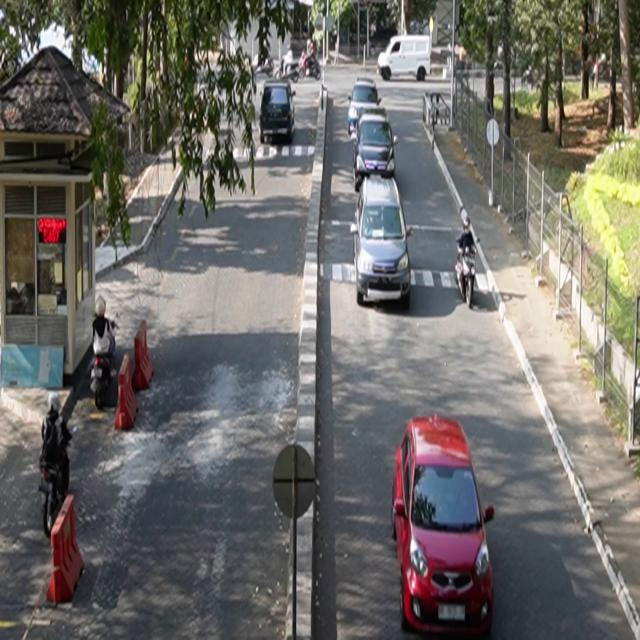car: (392, 415, 496, 638), (351, 175, 413, 307), (353, 113, 399, 192), (260, 81, 297, 145), (349, 81, 383, 136)
